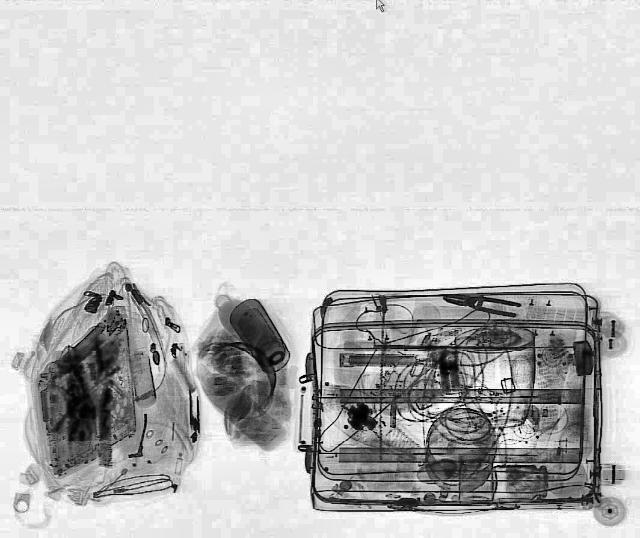Pliers: (440, 290, 522, 318)
